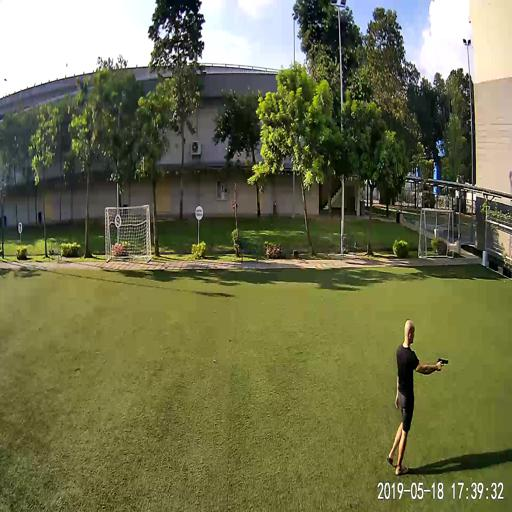pistol: (436, 356, 449, 369)
